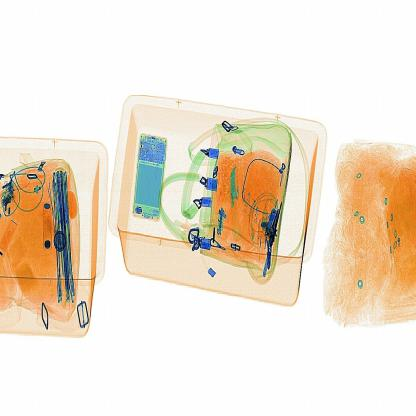wrench: (223, 159, 251, 258)
